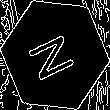N_NE: (26, 27, 84, 83)
